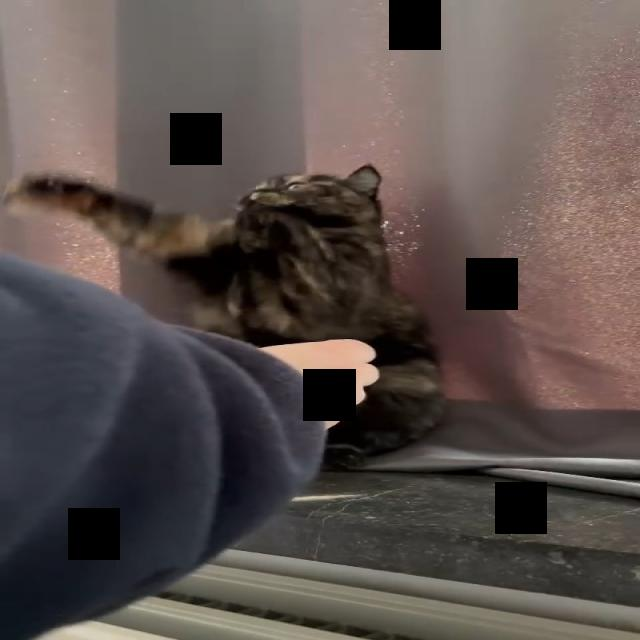authorized: (3, 162, 448, 471)
